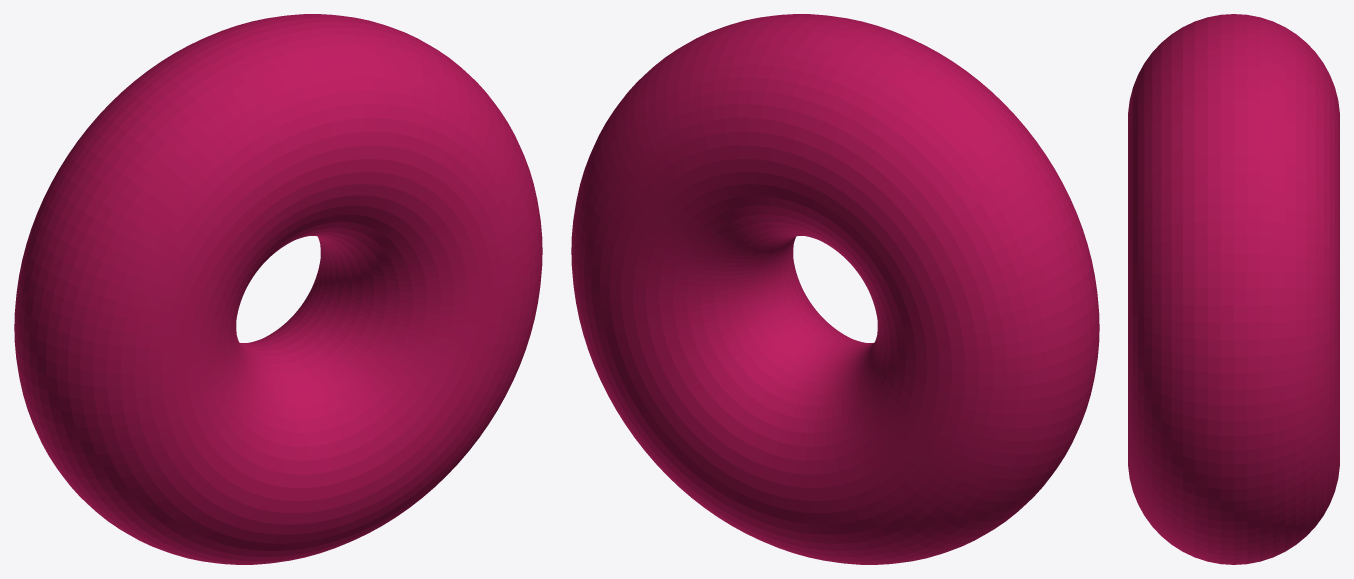
The picture shows the model from 3 angles, left to right: view 1: azimuth 30°, elevation 25°; view 2: azimuth 150°, elevation 25°; view 3: azimuth 270°, elevation 25°; orthographic projection. The views are drawn at different scales.
Visible parts, largest first — view 1: world; view 2: world; view 3: world.
Boxes of the visible parts, box(x1,y1,x2,y2) form: world: box(14, 14, 542, 564); world: box(571, 14, 1099, 564); world: box(1128, 14, 1339, 564).
Size of the model in its own units: 23.87 by 23.87 by 9.18.
